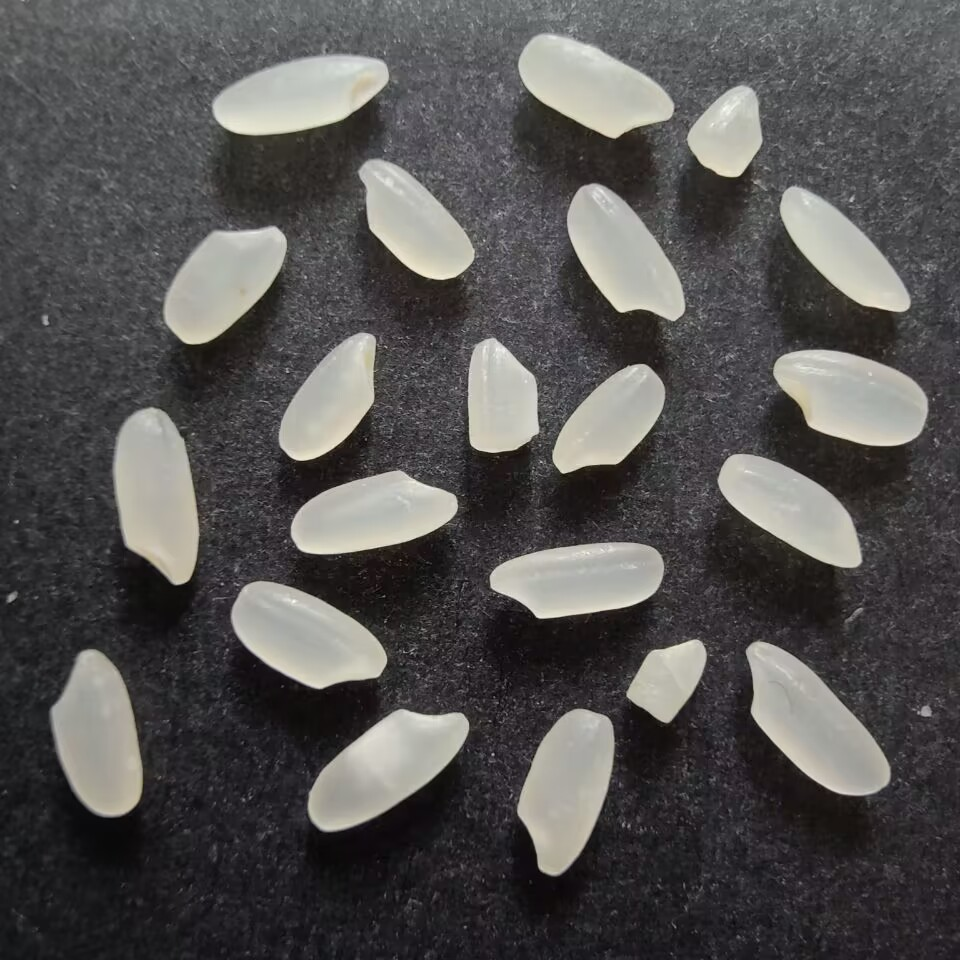broken: (466, 335, 545, 458), (619, 636, 711, 724), (685, 81, 766, 180)
rice: (741, 636, 896, 800), (300, 707, 475, 833), (715, 451, 866, 573), (225, 579, 386, 693), (513, 704, 617, 878), (43, 647, 147, 820), (516, 30, 681, 139), (778, 182, 912, 315), (566, 180, 686, 325), (109, 406, 203, 588), (769, 345, 931, 448), (285, 466, 460, 561), (161, 223, 289, 347), (208, 51, 388, 139), (354, 157, 479, 281), (483, 540, 664, 624), (274, 328, 378, 463), (551, 360, 669, 478)
